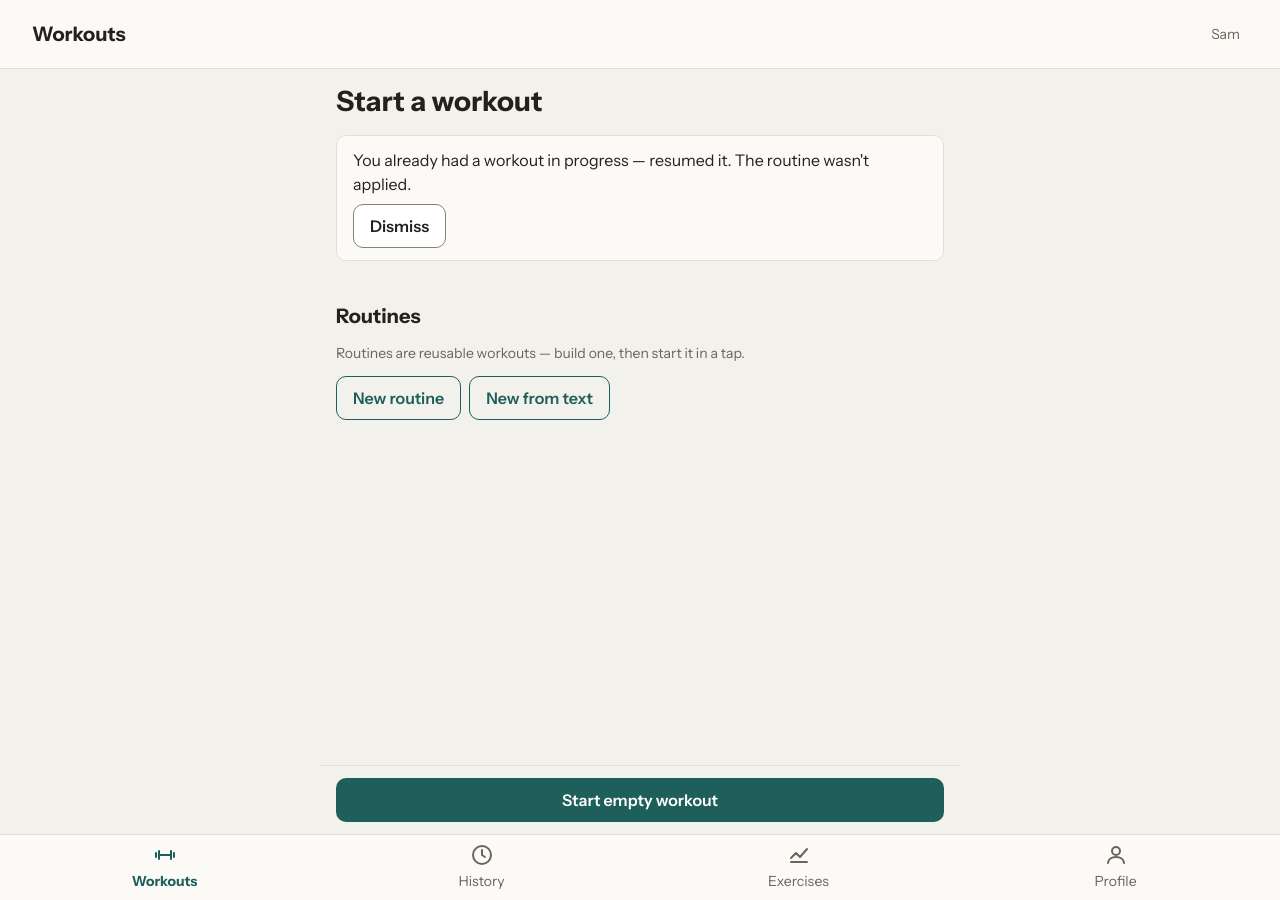
Test: 10.0 AC23 — one-time notices from router state › routine-not-applied shows once, dismissibly
# Start elsewhere so the navigation mounts WorkoutsScreen fresh, as the preview's navigate does.
Step 1. Click the button "Dismiss" → (400, 226), box [353,204,446,248]
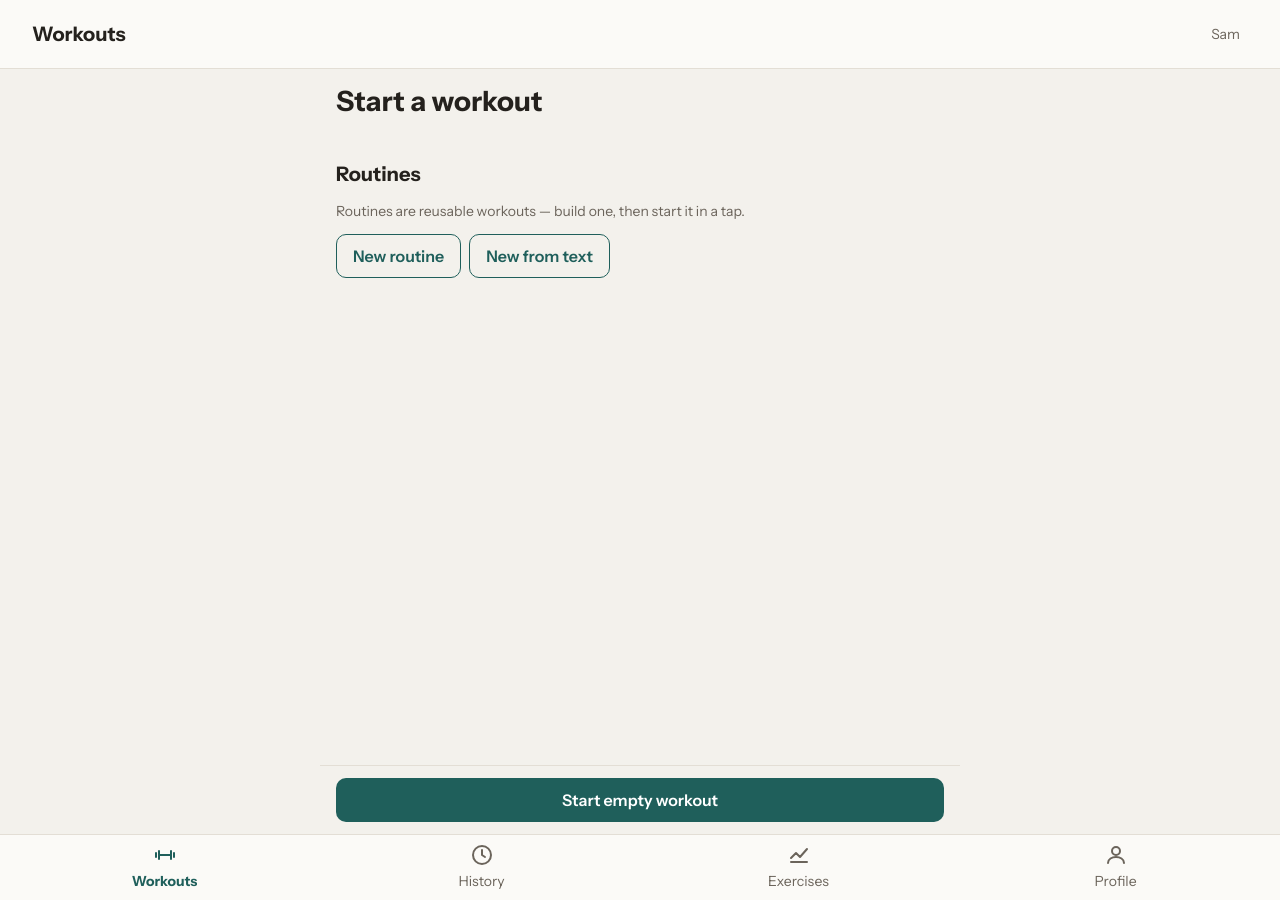
Expected: the text "You already had a workout in progress — resumed it. The routine wasn't applied." is gone
